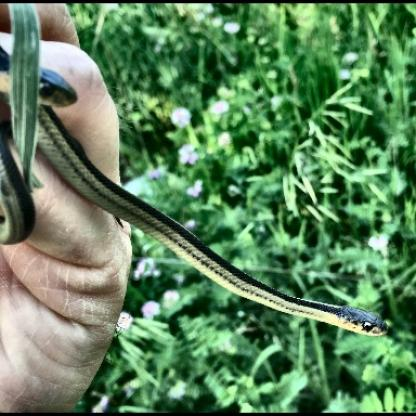Snake: (1, 22, 400, 400)
